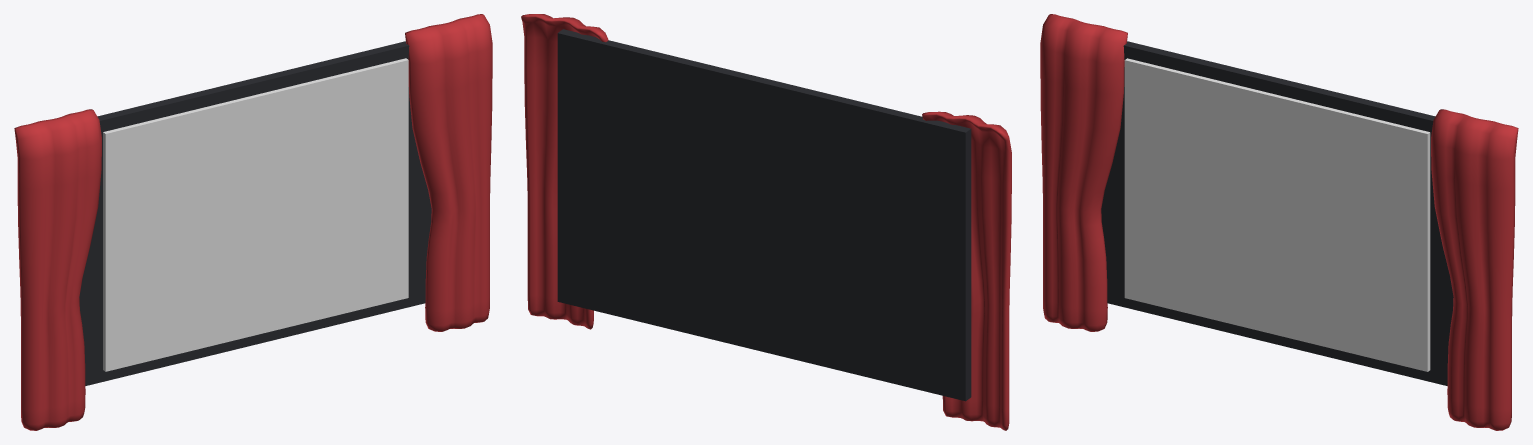
File: Screen_Lv2.fbx
The picture shows the model from 3 angles, left to right: view 1: azimuth 30°, elevation 25°; view 2: azimuth 150°, elevation 25°; view 3: azimuth 330°, elevation 25°; orthographic projection. The views are drawn at different scales.
Parts seen in each view (by area): view 1: Screen_Lv2; view 2: Screen_Lv2; view 3: Screen_Lv2.
Part boxes in pixels (x1=…): Screen_Lv2: x1=14, y1=14, x2=492, y2=430; Screen_Lv2: x1=521, y1=14, x2=1011, y2=430; Screen_Lv2: x1=1040, y1=14, x2=1518, y2=430.
Bounding box in the file's own units: 10.12 × 6.14 × 0.5901.
